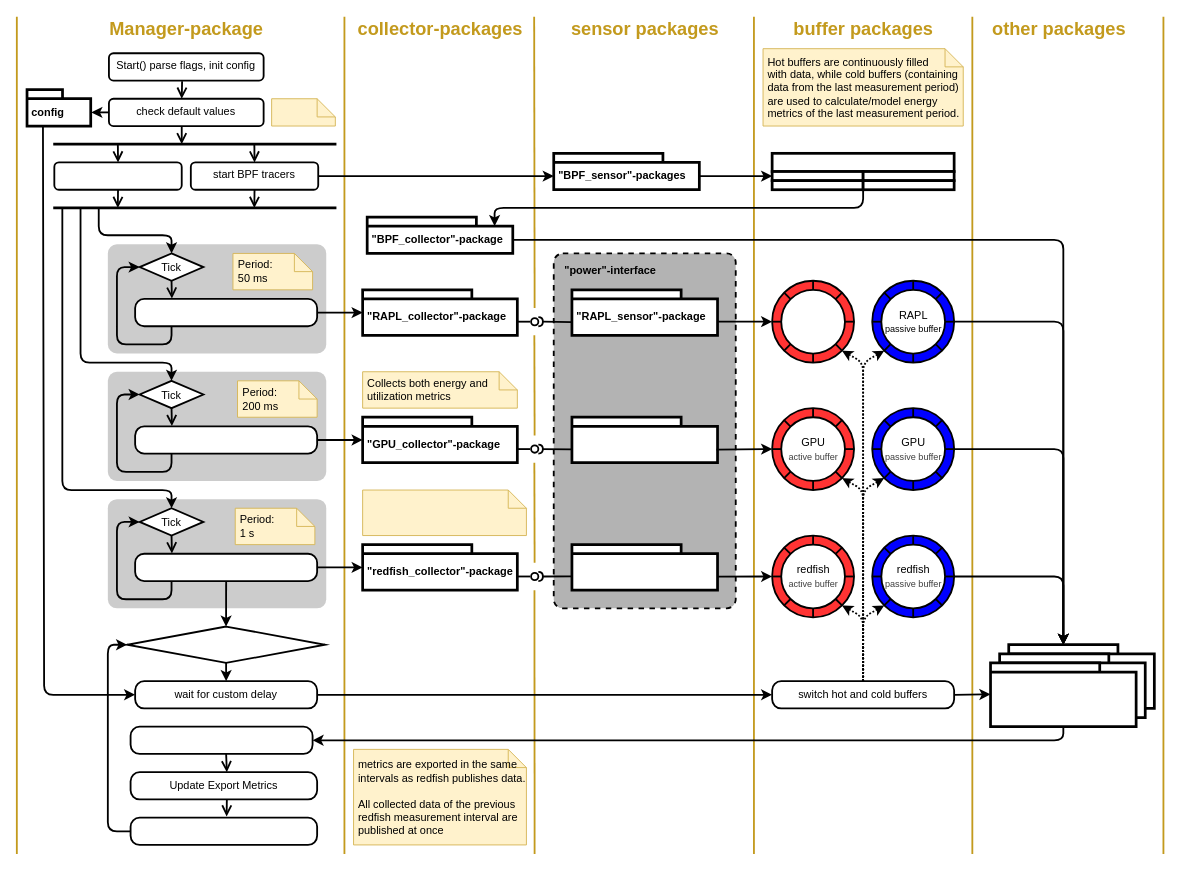
Some shapes in this 1180 by 871 pixel diagram are drawn without their labels. The shapes that lost their labels are listed below. From the top down, each one's centre as x and y in pixels, then its label:
point (303, 112): calculate delays
point (117, 175): spawn all Tickers
point (862, 162): BPF maps
point (226, 312): Collect RAPL data
point (812, 321): RAPL active buffer
point (226, 439): Collect GPU data
point (644, 439): "GPU_sensor"-package
point (444, 512): redfish is polled every second, even though redfish publish intervals are longer
point (226, 566): Collect Redfish data
point (644, 567): "redfish_sensor"-package
point (226, 644): on new redfish sample
point (1063, 694): "models"-packages and "stats "-packages
point (221, 739): PrometheusCollector Mutex Lock
point (223, 830): PrometheusCollector Mutex Unlock
